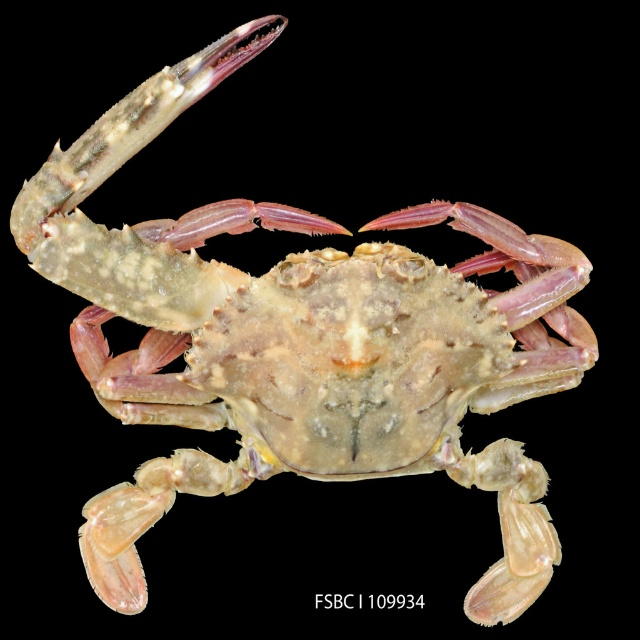Crab: (8, 14, 596, 628)
